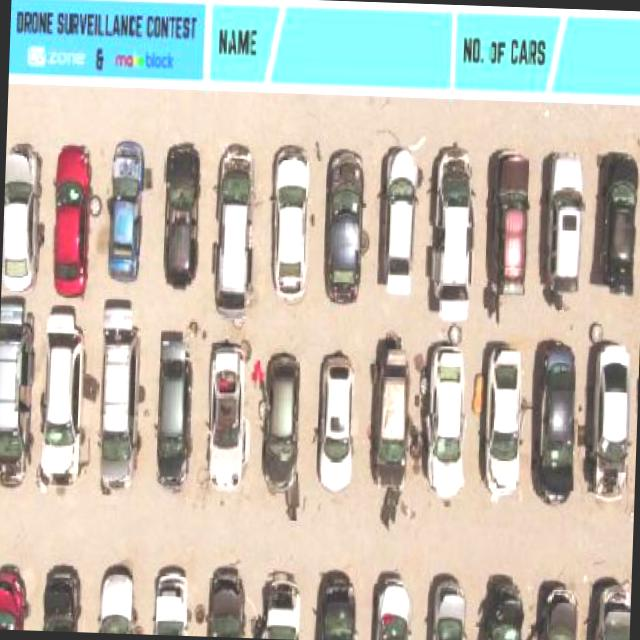car: (208, 142, 259, 315), (36, 311, 86, 487), (96, 318, 146, 491), (427, 144, 478, 310), (530, 340, 580, 506), (588, 338, 636, 498), (265, 145, 314, 301), (154, 326, 200, 491), (202, 334, 248, 494), (322, 148, 369, 302), (160, 140, 208, 289), (50, 140, 96, 294), (424, 343, 468, 502), (365, 339, 409, 493), (486, 148, 533, 292), (482, 340, 524, 498), (595, 149, 640, 294), (258, 350, 302, 495), (1, 142, 43, 292), (545, 153, 588, 295), (315, 351, 358, 493), (0, 307, 34, 485), (106, 138, 148, 280), (376, 146, 417, 283), (203, 561, 247, 637), (39, 560, 85, 630), (258, 568, 302, 638), (313, 574, 359, 640), (423, 571, 465, 640), (98, 564, 138, 634), (154, 562, 192, 634), (590, 575, 631, 640), (536, 582, 581, 640), (481, 578, 522, 640), (376, 573, 412, 640), (0, 558, 31, 628)
